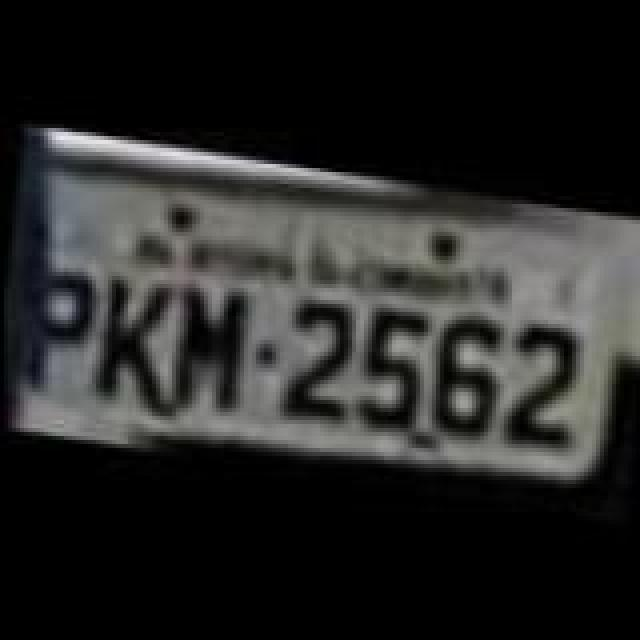2: (492, 318, 584, 454), (280, 300, 360, 420)
5: (356, 300, 436, 432)
6: (424, 310, 512, 442)
K: (90, 272, 174, 412)
M: (166, 278, 258, 418)
P: (16, 266, 104, 398)
